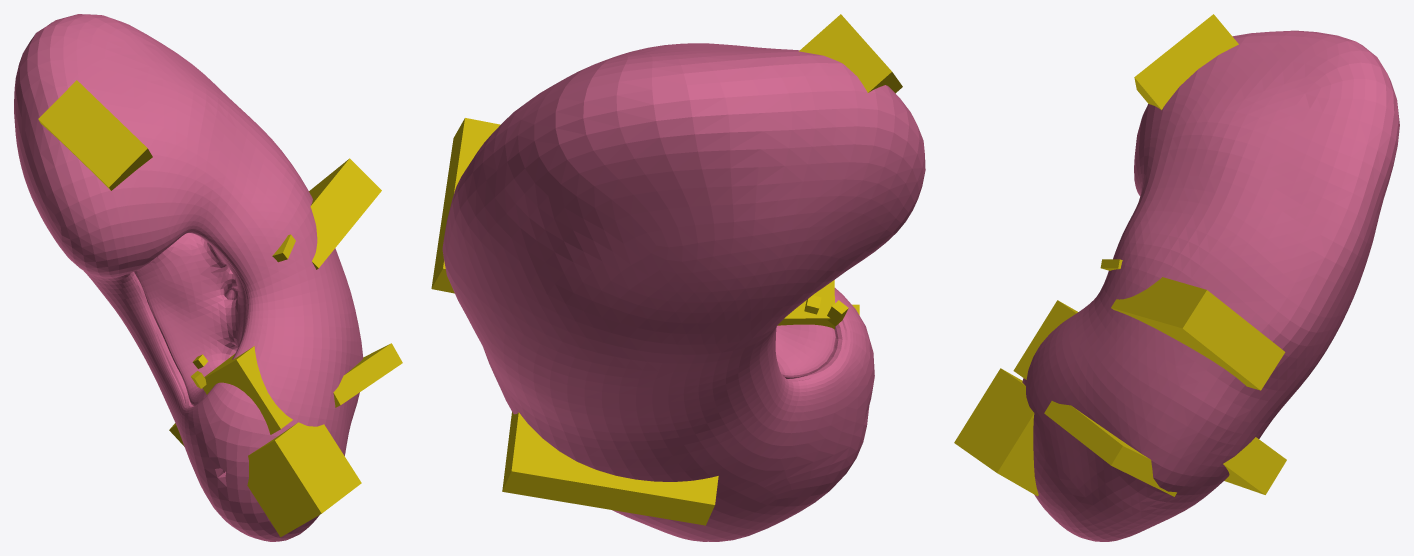
Rendered from male_with_og_tbs.glb.
3 renders of one model, left to right at view 1: azimuth 30°, elevation 25°; view 2: azimuth 150°, elevation 25°; view 3: azimuth 270°, elevation 25°, orthographic. The views are drawn at different scales.
Visible parts, largest first — view 1: world; view 2: world; view 3: world.
Part boxes in pixels (x1,y1,x2,y2): world: (14, 14, 402, 541); world: (431, 14, 925, 541); world: (954, 14, 1399, 541).
Size of the model in its own units: 0.0835 by 0.1075 by 0.0961.
